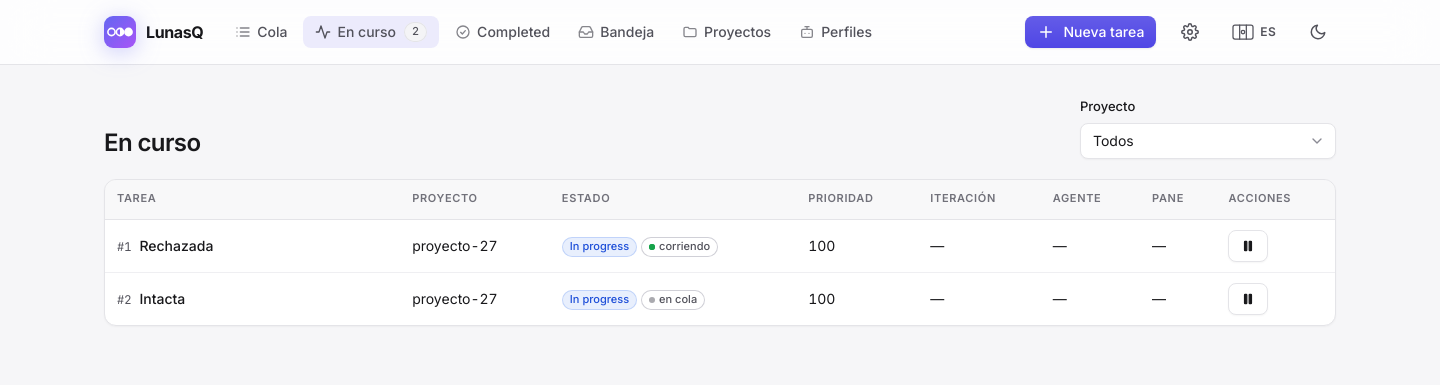
it: In progress tab › per-row pause button › if the API rejects the pause it shows the error with role alert in that row and the task stays
Click the button named "Pausar tarea Rechazada".
click(1248, 246)  # box x1=1228 y1=230 x2=1268 y2=262
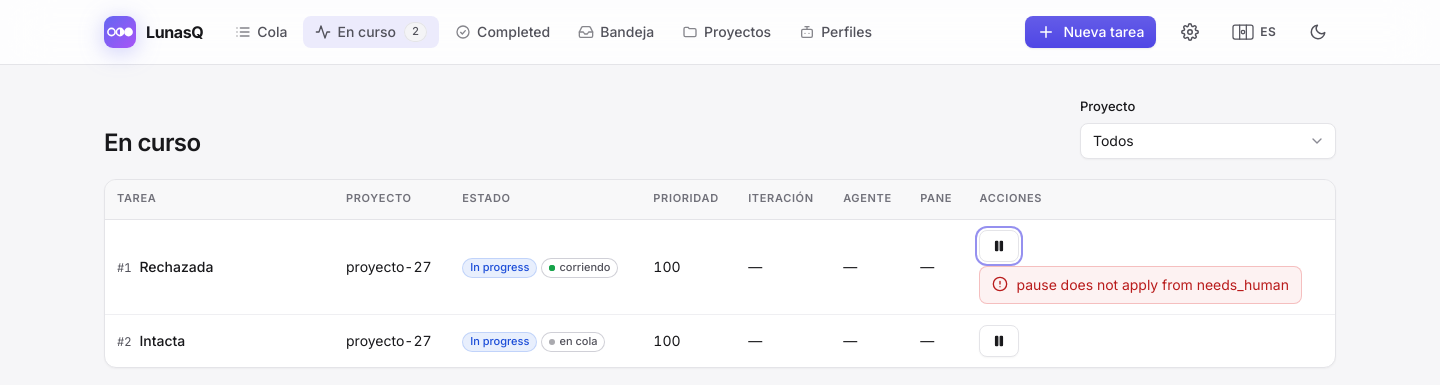
Expected: the button named "Pausar tarea Rechazada" is enabled, x1=980 y1=230 x2=1020 y2=262
Now the message shows "pause does not apply", box x1=1016 y1=276 x2=1289 y2=293
